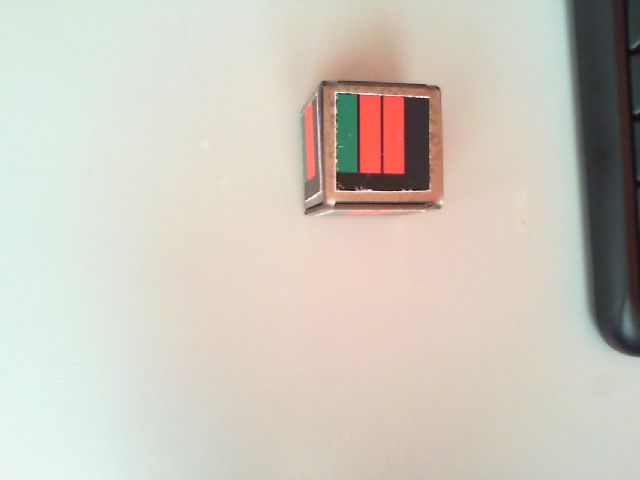square: (337, 92, 430, 191)
